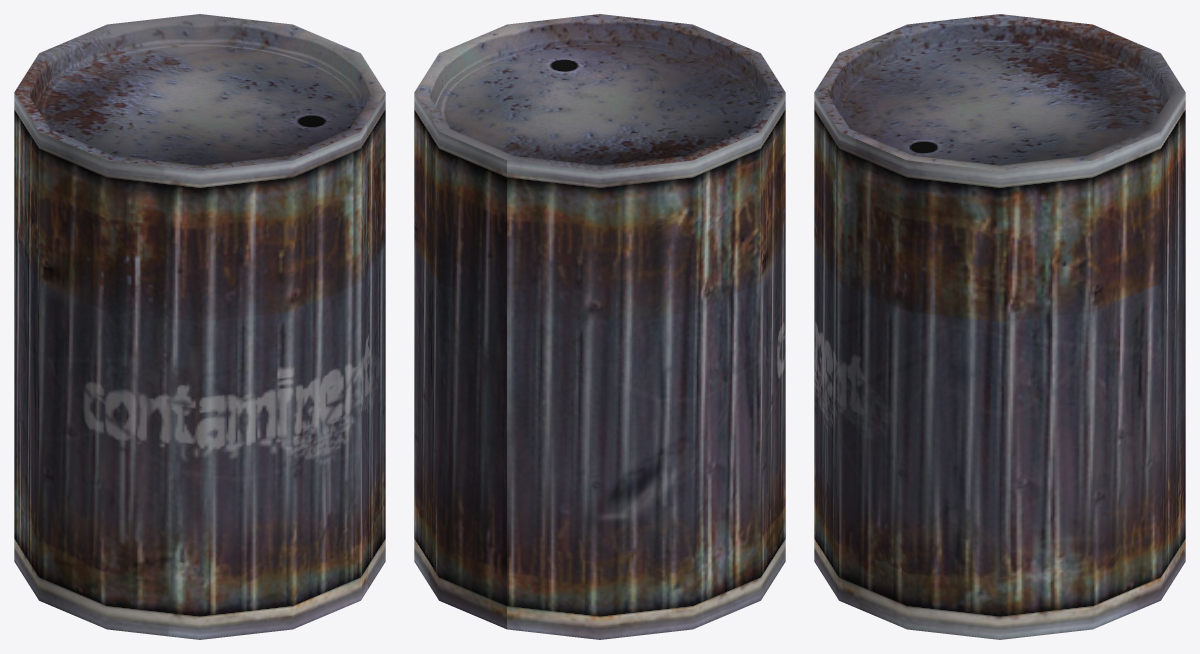
Rendered from barrel02.obj.
The picture shows the model from 3 angles, left to right: view 1: azimuth 30°, elevation 25°; view 2: azimuth 150°, elevation 25°; view 3: azimuth 270°, elevation 25°; orthographic projection.
Visible parts, largest first — view 1: Mesh; view 2: Mesh; view 3: Mesh.
Boxes of the visible parts, <box> form: Mesh: <box>14,14,385,639</box>; Mesh: <box>414,14,785,639</box>; Mesh: <box>814,14,1185,639</box>.
Size of the model in its own units: 0.863 by 1.2 by 0.863.
1 material, 1 textured.
